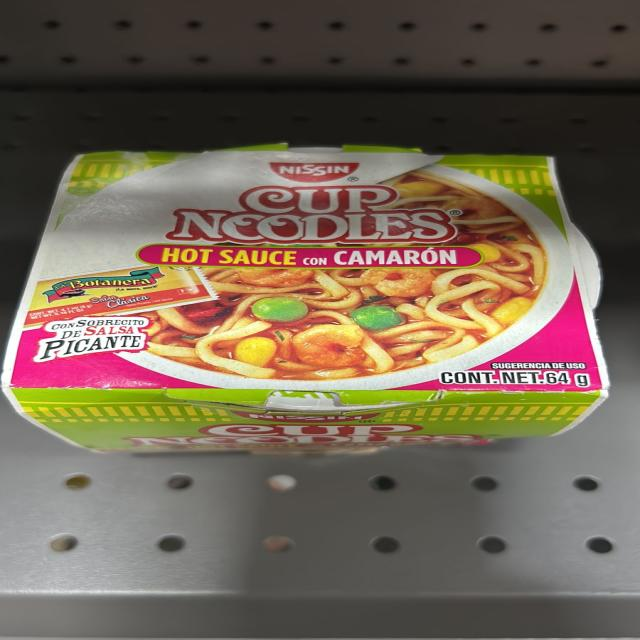nissinCamaron: (16, 151, 604, 443)
